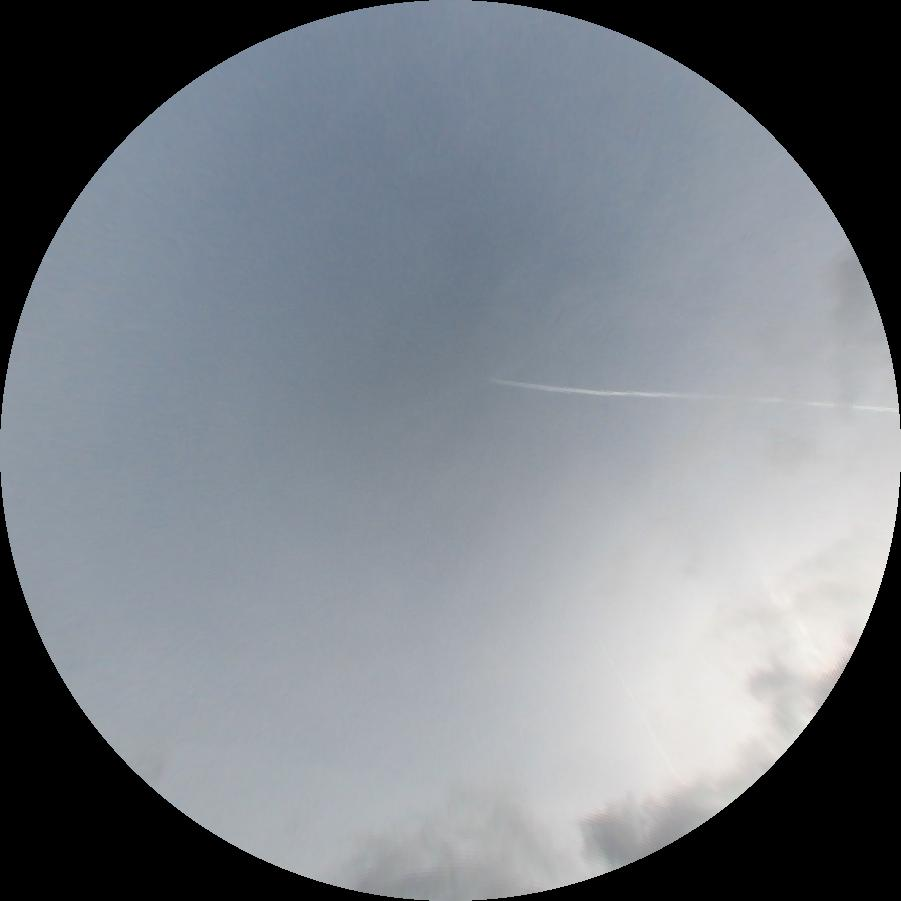contrail old: (487, 378, 899, 412)
contrail young: (610, 652, 686, 783)
